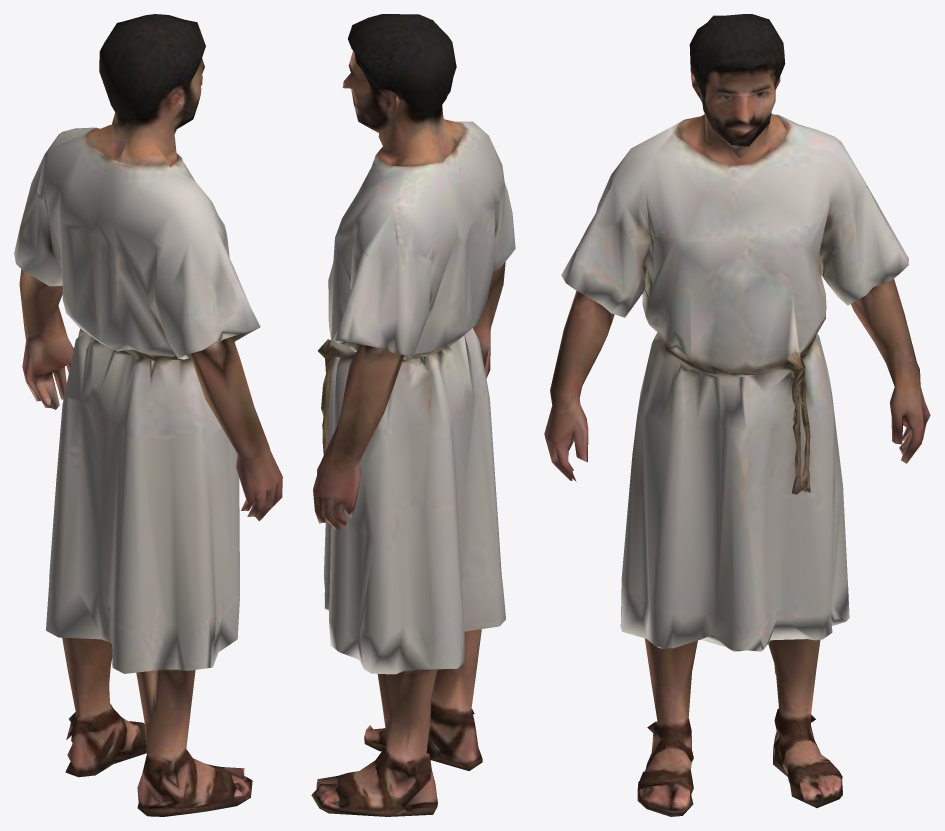
The model's file is man.glb.
The picture shows the model from 3 angles, left to right: view 1: azimuth 30°, elevation 25°; view 2: azimuth 150°, elevation 25°; view 3: azimuth 270°, elevation 25°; orthographic projection.
Parts seen in each view (by area): view 1: tripo_node_c165badf-9fce-4349-b5bf-249ea9434e00; view 2: tripo_node_c165badf-9fce-4349-b5bf-249ea9434e00; view 3: tripo_node_c165badf-9fce-4349-b5bf-249ea9434e00.
Part boxes in pixels (box(x1,y1,x2,y2)): tripo_node_c165badf-9fce-4349-b5bf-249ea9434e00: box(14, 14, 282, 816); tripo_node_c165badf-9fce-4349-b5bf-249ea9434e00: box(311, 14, 515, 816); tripo_node_c165badf-9fce-4349-b5bf-249ea9434e00: box(544, 14, 930, 816).
Bounding box in the file's own units: 0.2073 × 0.9798 × 0.4469.
Materials: 1 (1 with a texture image).
